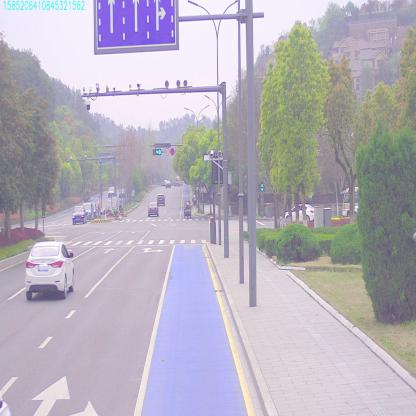traffic-light: (151, 148, 163, 155)
